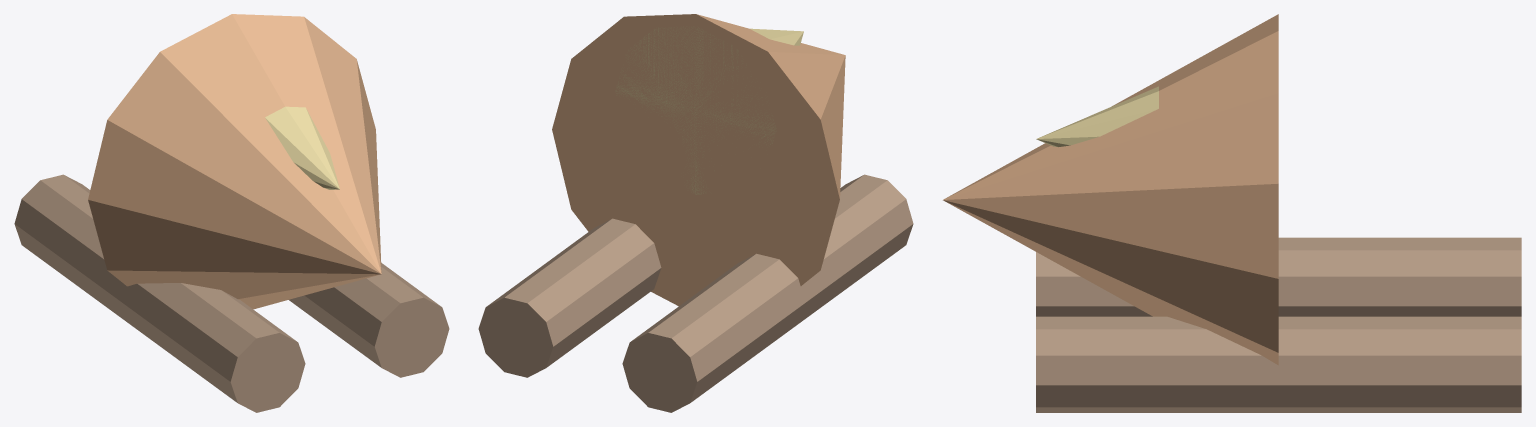
The model's file is bonfire.glb.
The picture shows the model from 3 angles, left to right: view 1: azimuth 30°, elevation 25°; view 2: azimuth 150°, elevation 25°; view 3: azimuth 270°, elevation 25°; orthographic projection. The views are drawn at different scales.
Parts seen in each view (by area): view 1: part_02, part_00, part_01, part_03; view 2: part_02, part_00, part_01, part_03; view 3: part_02, part_01, part_00, part_03.
Boxes of the visible parts, x1=… form: part_02: x1=88, y1=14, x2=381, y2=309; part_00: x1=14, y1=174, x2=305, y2=412; part_01: x1=289, y1=263, x2=449, y2=377; part_03: x1=265, y1=106, x2=339, y2=189; part_02: x1=552, y1=14, x2=845, y2=306; part_00: x1=622, y1=174, x2=913, y2=412; part_01: x1=478, y1=218, x2=661, y2=377; part_03: x1=615, y1=26, x2=803, y2=194; part_02: x1=943, y1=14, x2=1278, y2=365; part_01: x1=1036, y1=316, x2=1521, y2=412; part_00: x1=1036, y1=237, x2=1521, y2=316; part_03: x1=1036, y1=86, x2=1158, y2=147.
Size of the model in its own units: 1 by 1 by 1.55.
